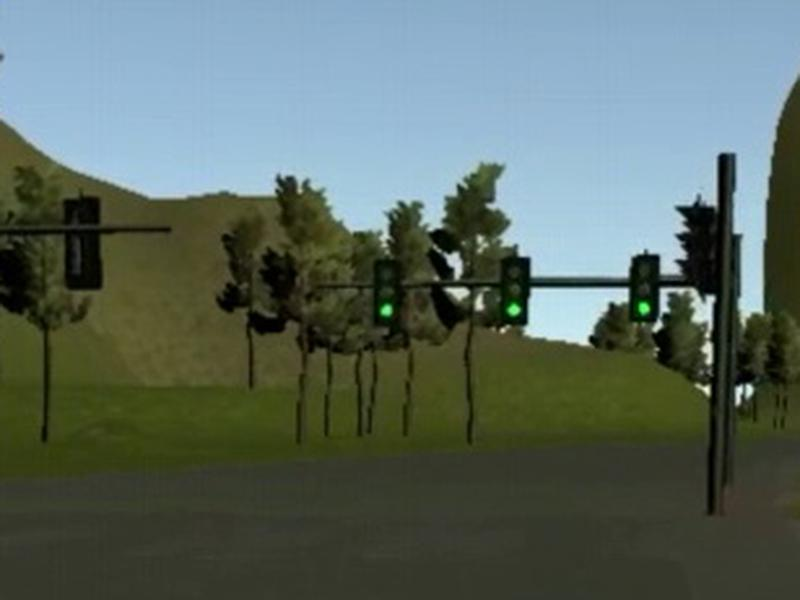Green: (499, 256, 530, 325), (629, 254, 660, 322), (374, 259, 402, 325)
